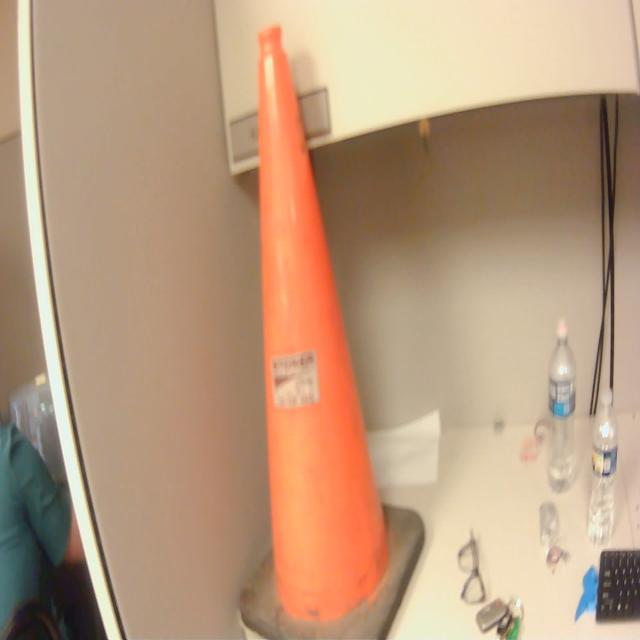traffic cone: (236, 16, 433, 640)
